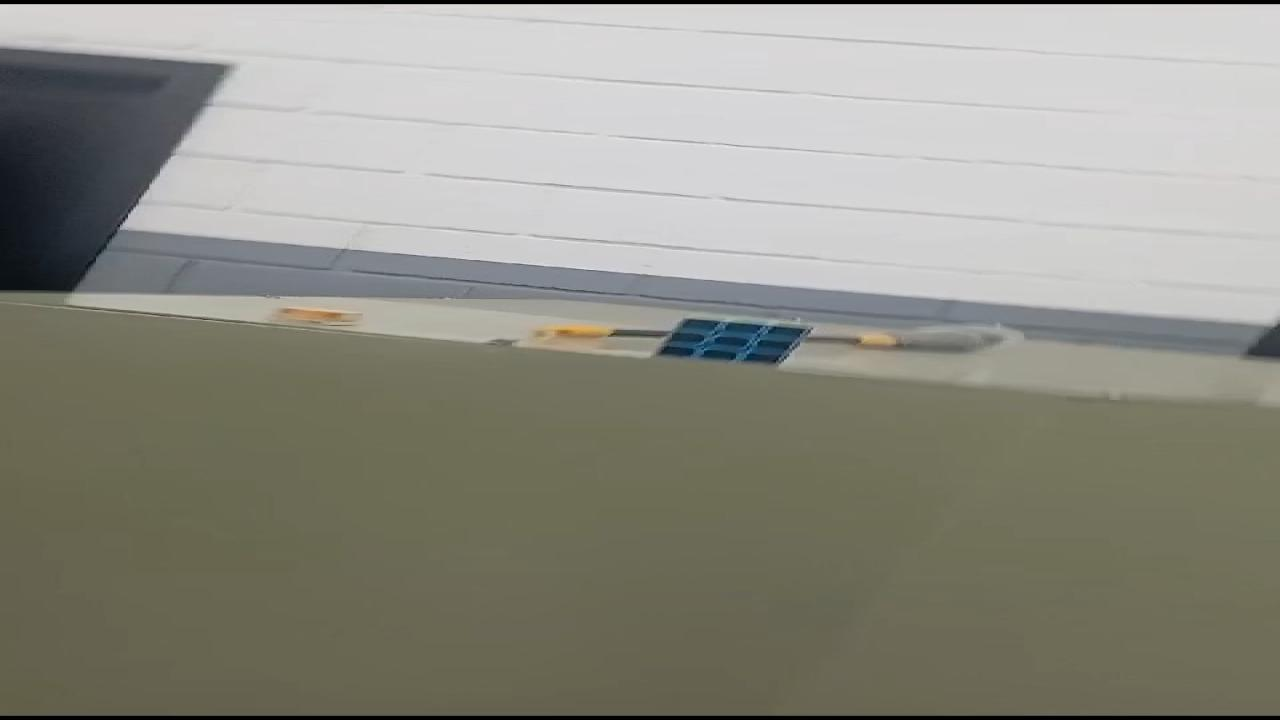Cube: (648, 314, 813, 368)
